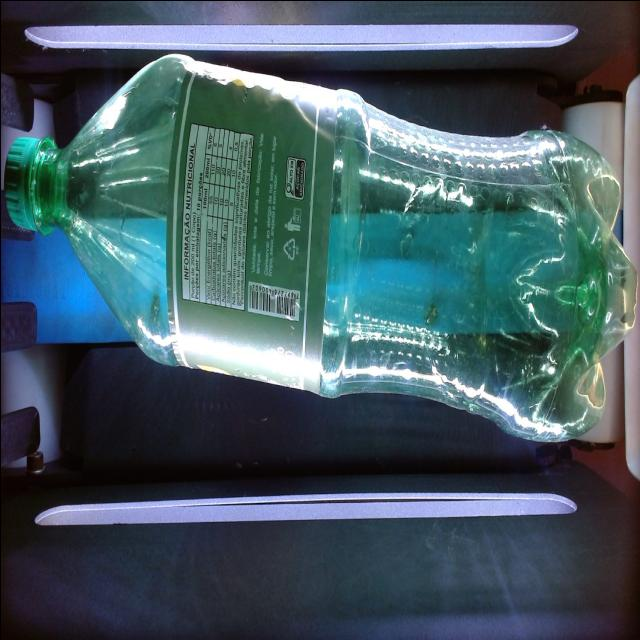bottom: (522, 105, 632, 463)
cap: (1, 129, 58, 246)
code: (243, 275, 300, 334)
